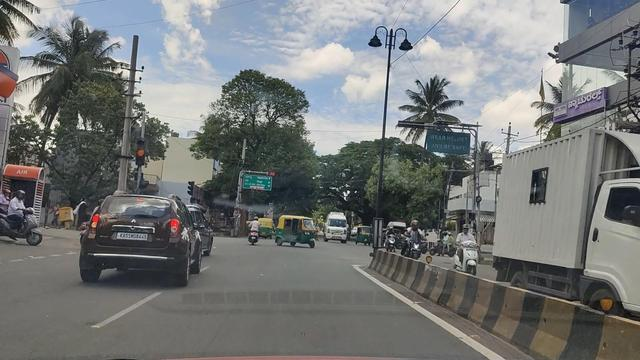LMV: (84, 196, 204, 291)
